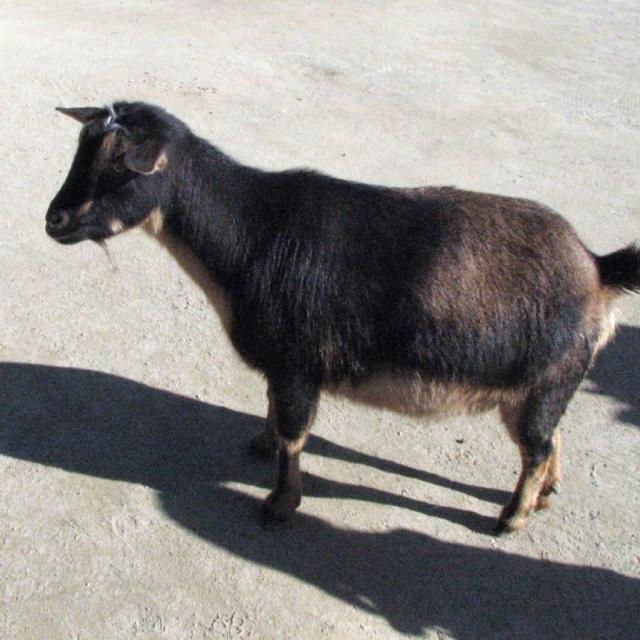Goat: (44, 102, 639, 540)
